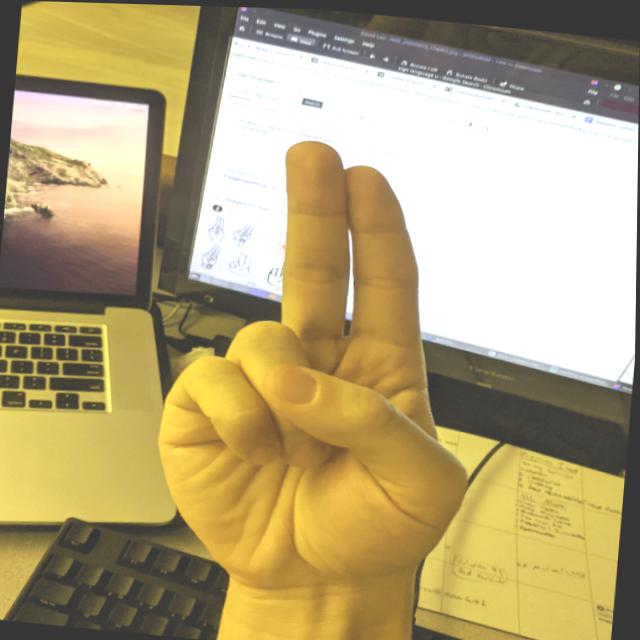U: (141, 115, 504, 609)
